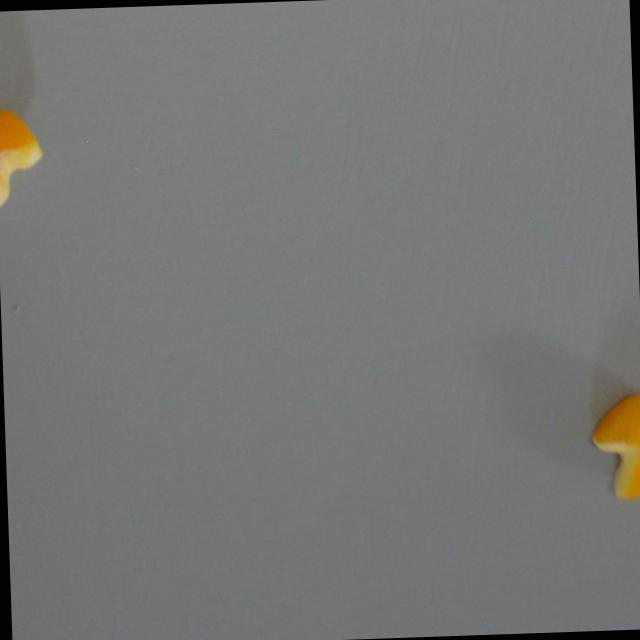no_canjicado: (0, 103, 45, 211)
pelicula: (586, 390, 640, 505)
